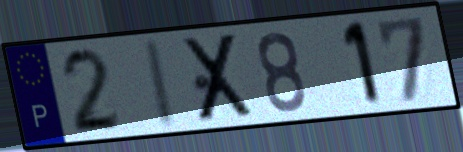1: (339, 18, 385, 108)
2: (61, 47, 124, 134)
7: (371, 13, 429, 105)
8: (255, 29, 308, 114)
I: (144, 36, 180, 132)
X: (180, 30, 259, 126)
